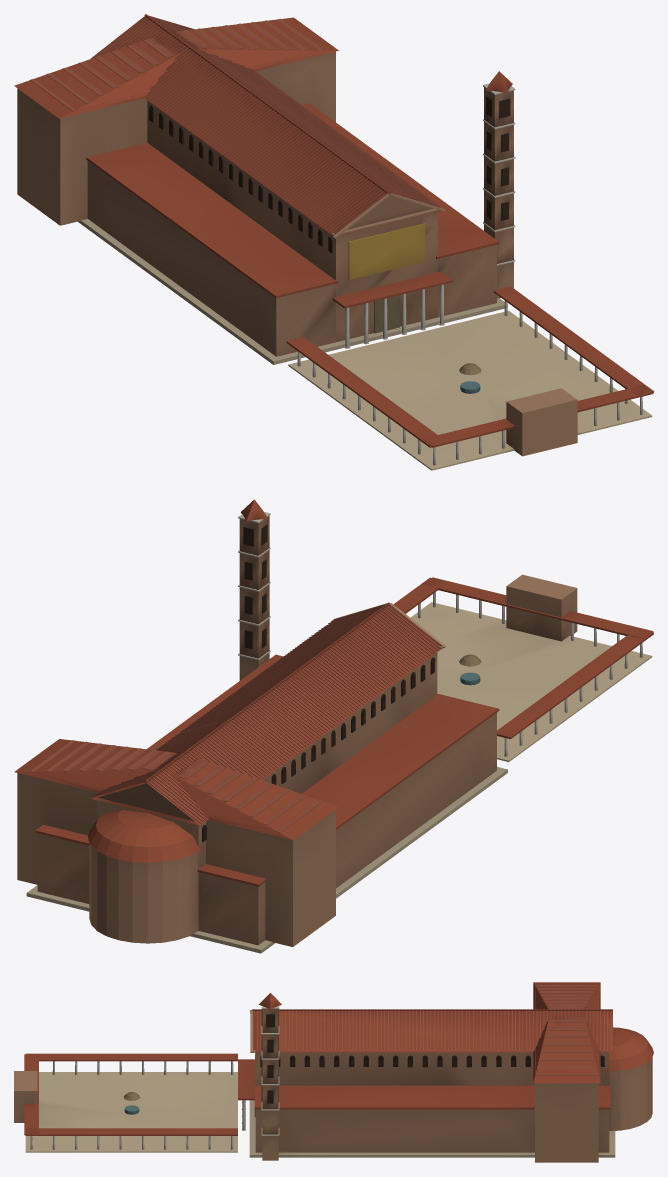
The model's file is old-st-peters-medieval.glb.
3 views of the same model, one above another, from view 1: azimuth 30°, elevation 25°; view 2: azimuth 150°, elevation 25°; view 3: azimuth 270°, elevation 25° (orthographic). The views are drawn at different scales.
Parts seen in each view (by area): view 1: p2_campanile, p1_atrium, p0_base; view 2: p2_campanile, p1_atrium, p0_base; view 3: p2_campanile, p1_atrium, p0_base.
Part boxes in pixels (x1,y1,x2,y2): p2_campanile: [14, 14, 653, 447]; p1_atrium: [17, 51, 642, 465]; p0_base: [78, 219, 652, 470]; p2_campanile: [14, 499, 653, 886]; p1_atrium: [17, 574, 642, 946]; p0_base: [26, 602, 652, 953]; p2_campanile: [24, 982, 653, 1160]; p1_atrium: [14, 1052, 652, 1162]; p0_base: [25, 1072, 615, 1157].
Bounding box in the file's own units: 81.19 × 62.5 × 217.
